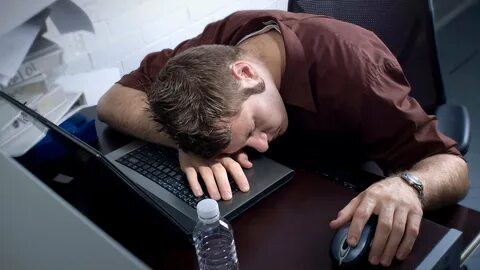sleep: (94, 9, 424, 169)
